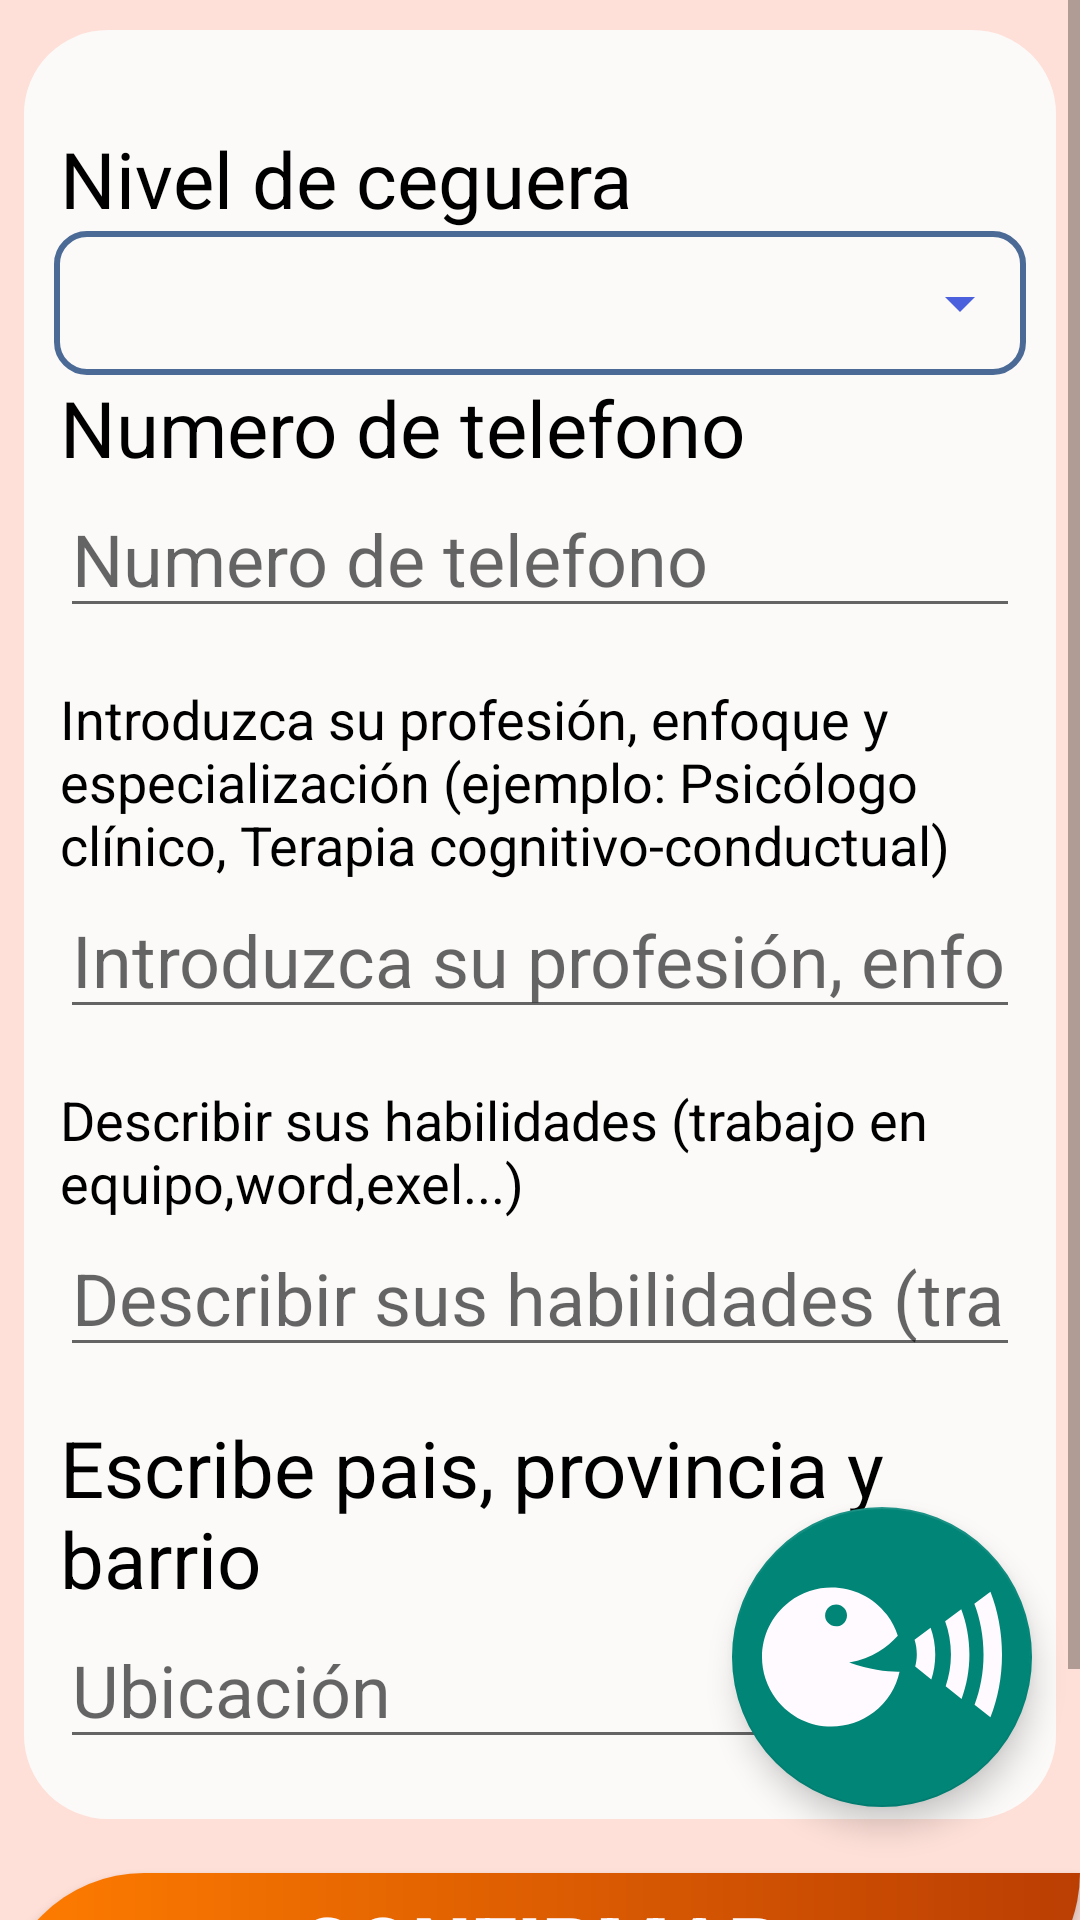

Icons on this 1080 × 1920 Android screen, each with its box as (x1, y1, x2, y2):
Activar comandos de voz: (732, 1507, 1032, 1807)
